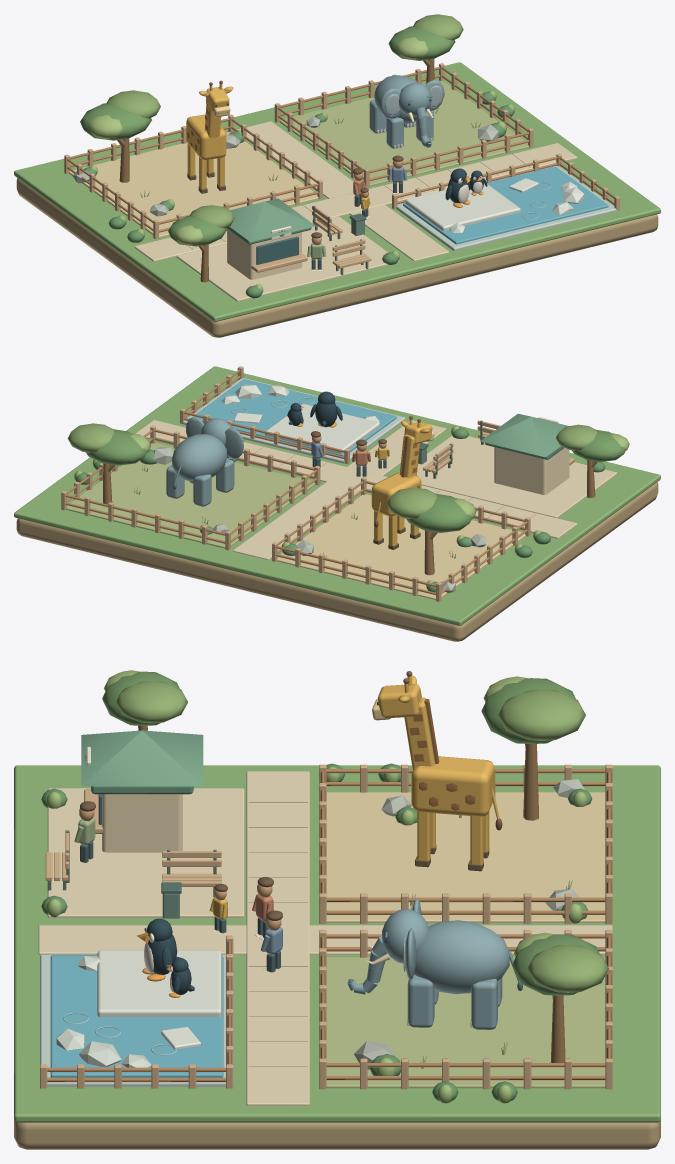
The model's file is zoo-diorama.glb.
3 renders of one model, top to bottom at view 1: azimuth 30°, elevation 25°; view 2: azimuth 150°, elevation 25°; view 3: azimuth 270°, elevation 25°, orthographic. The views are drawn at different scales.
Visible parts, largest first — view 1: grass_surface, earth_plinth, giraffe_sand, elephant_grass, acacia (×3), entrance_plaza, main_path, cross_path, pool, welcome_kiosk, penguin_island, roof (+7 smaller); view 2: grass_surface, earth_plinth, giraffe_sand, elephant_grass, acacia (×3), entrance_plaza, cross_path, main_path, pool, body (×3), welcome_kiosk, penguin_island (+12 smaller); view 3: grass_surface, giraffe_sand, elephant_grass, cross_path, earth_plinth, acacia (×3), entrance_plaza, pool, body (×2), fence_rail (×8), main_path, penguin_island (+14 smaller).
Part boxes in pixels (box(x1,y1,x2,y2)): grass_surface: box(14, 62, 660, 321); earth_plinth: box(16, 178, 658, 337); giraffe_sand: box(69, 132, 318, 237); elephant_grass: box(279, 80, 529, 186); acacia (×3): box(80, 14, 463, 282); entrance_plaza: box(176, 216, 399, 301); main_path: box(237, 121, 449, 261); cross_path: box(134, 143, 577, 261); pool: box(403, 166, 608, 244); welcome_kiosk: box(227, 226, 311, 279); penguin_island: box(405, 183, 520, 230); roof: box(229, 198, 315, 242); grass_surface: box(14, 366, 660, 625); earth_plinth: box(16, 482, 658, 641); giraffe_sand: box(276, 494, 525, 599); elephant_grass: box(66, 443, 315, 548); acacia (×3): box(67, 423, 629, 575); entrance_plaza: box(417, 435, 617, 517); cross_path: box(135, 420, 577, 538); main_path: box(233, 420, 446, 559); pool: box(191, 379, 396, 456); body (×3): box(172, 402, 421, 516); welcome_kiosk: box(485, 417, 574, 494); penguin_island: box(265, 404, 380, 453); grass_surface: box(14, 765, 660, 1122); giraffe_sand: box(326, 792, 605, 922); elephant_grass: box(326, 957, 605, 1088); cross_path: box(246, 771, 309, 1105); earth_plinth: box(14, 1120, 660, 1149); acacia (×3): box(102, 670, 608, 1062); entrance_plaza: box(47, 788, 244, 917); pool: box(50, 955, 223, 1077); body (×2): box(411, 756, 509, 994); fence_rail (×8): box(47, 769, 605, 1082); main_path: box(38, 925, 612, 954); penguin_island: box(97, 950, 221, 1016).
Bounding box in the file's own units: 15.52 × 4.64 × 12.
